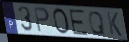3: (18, 5, 34, 33)
E: (68, 9, 89, 36)
K: (105, 11, 123, 38)
O: (52, 7, 71, 35)
P: (33, 6, 51, 34)
Q: (88, 11, 107, 36)
